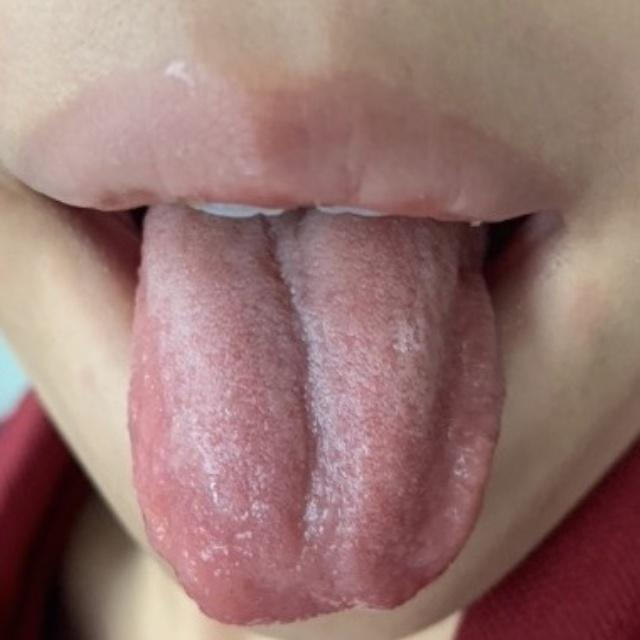baitaishe: (126, 222, 502, 626)
gandanao: (407, 262, 503, 570)
